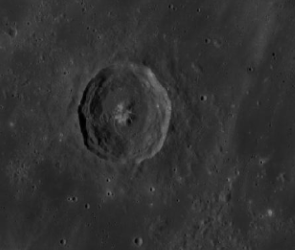crater: (55, 41, 195, 187)
